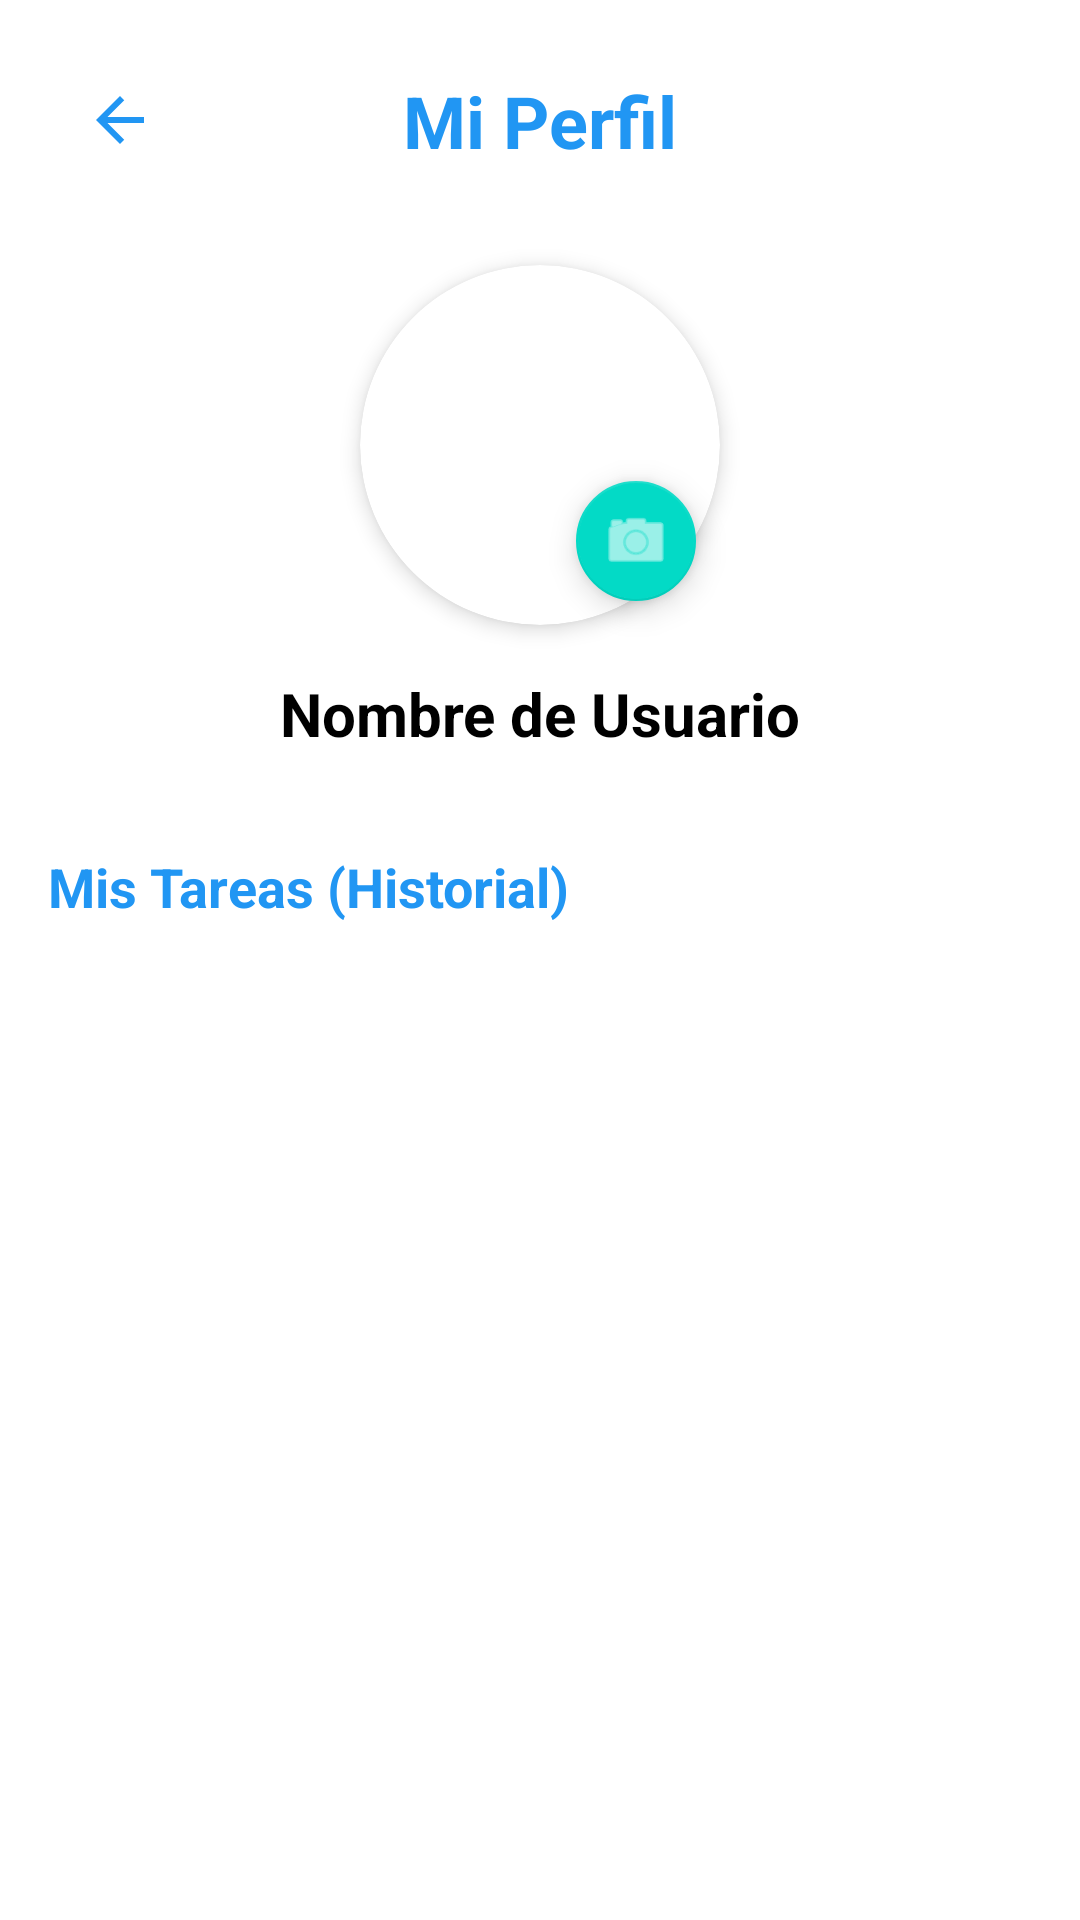

Icons on this 1080×1920 Android screen, each with its box as (x1, y1, x2, y2):
back: (96, 96, 144, 144)
Cambiar foto de perfil: (576, 481, 708, 613)
